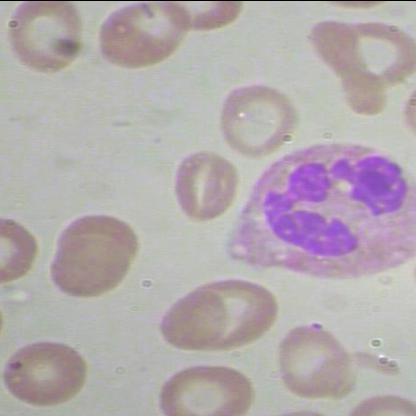RBC: (92, 0, 194, 74), (0, 335, 98, 409), (158, 142, 241, 223), (268, 322, 351, 403), (218, 77, 301, 157), (152, 355, 259, 415), (3, 0, 88, 74), (46, 233, 132, 297), (150, 290, 228, 348)
WBC: (217, 139, 415, 281)
